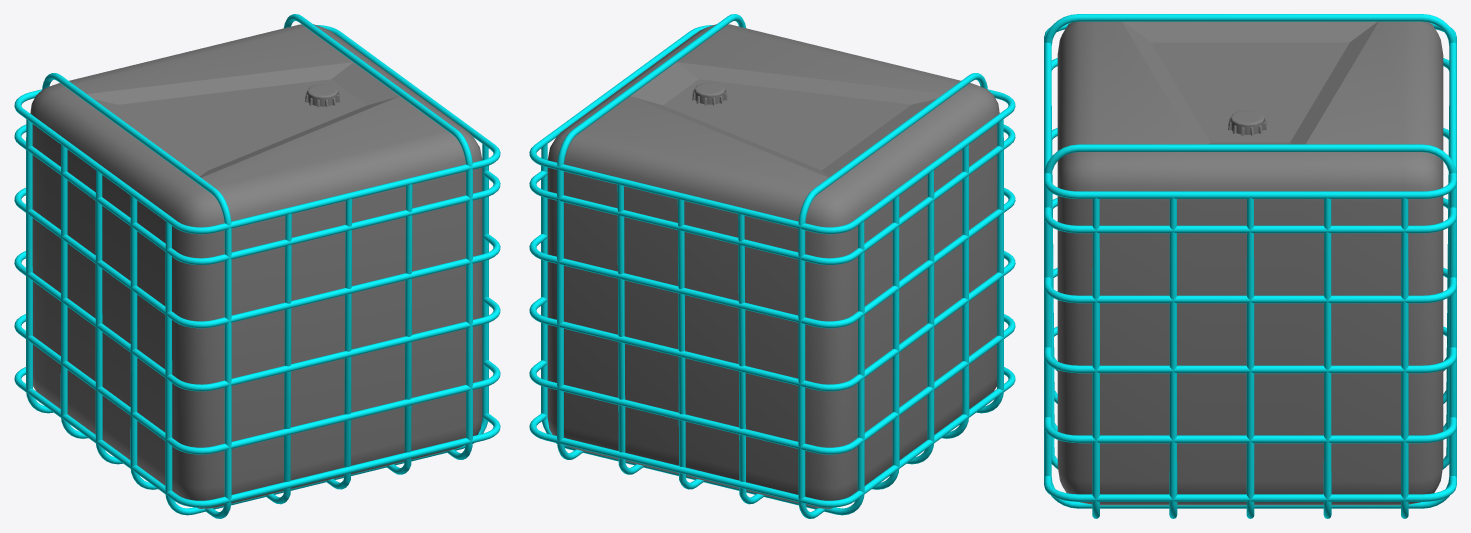
The model's file is Water_cart.fbx.
3 renders of one model, left to right at view 1: azimuth 30°, elevation 25°; view 2: azimuth 150°, elevation 25°; view 3: azimuth 270°, elevation 25°, orthographic. The views are drawn at different scales.
Visible parts, largest first — view 1: Water_cart; view 2: Water_cart; view 3: Water_cart.
Part boxes in pixels (box(x1,y1,x2,y2)): Water_cart: box(14, 14, 500, 518); Water_cart: box(529, 14, 1015, 518); Water_cart: box(1044, 14, 1456, 518).
Bounding box in the file's own units: 1.07 × 1.07 × 1.04.
